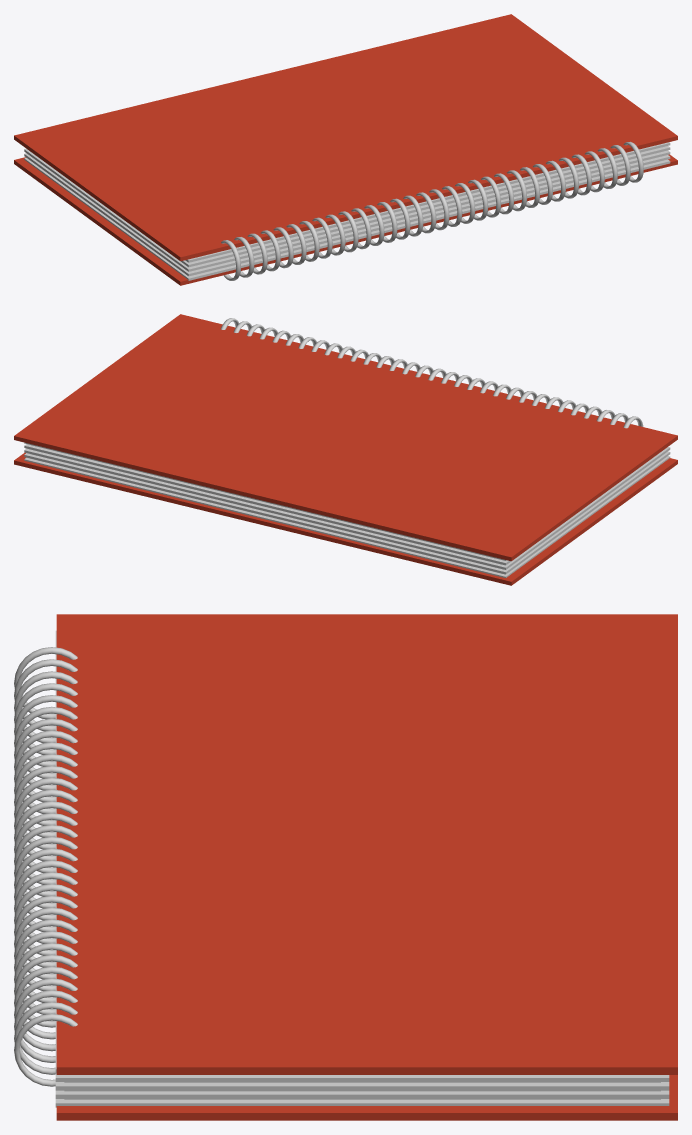
File: b9aaaf75-4270-430b-b0aa-93c8fd3f234a.glb
The picture shows the model from 3 angles, top to bottom: view 1: azimuth 30°, elevation 25°; view 2: azimuth 150°, elevation 25°; view 3: azimuth 270°, elevation 25°; orthographic projection. The views are drawn at different scales.
Parts seen in each view (by area): view 1: Box002, Box003, Box001; view 2: Box002, Box003, Box001; view 3: Box002, Box003, Box001, Torus001, Torus002, Torus003, Torus004, Torus005.
Boxes of the visible parts, x1,y1,x2,y2 form: Box002: (14, 14, 677, 261); Box003: (24, 142, 670, 280); Box001: (14, 154, 677, 285); Box002: (14, 314, 677, 561); Box003: (24, 442, 670, 577); Box001: (14, 452, 677, 585); Box002: (56, 614, 677, 1074); Box003: (55, 630, 669, 1107); Box001: (56, 1075, 677, 1120); Torus001: (14, 1013, 77, 1086); Torus002: (14, 1002, 77, 1074); Torus003: (14, 990, 77, 1062); Torus004: (14, 978, 77, 1051); Torus005: (14, 966, 77, 1039).
Bounding box in the file's own units: 1119920 × 82389 × 693727.
